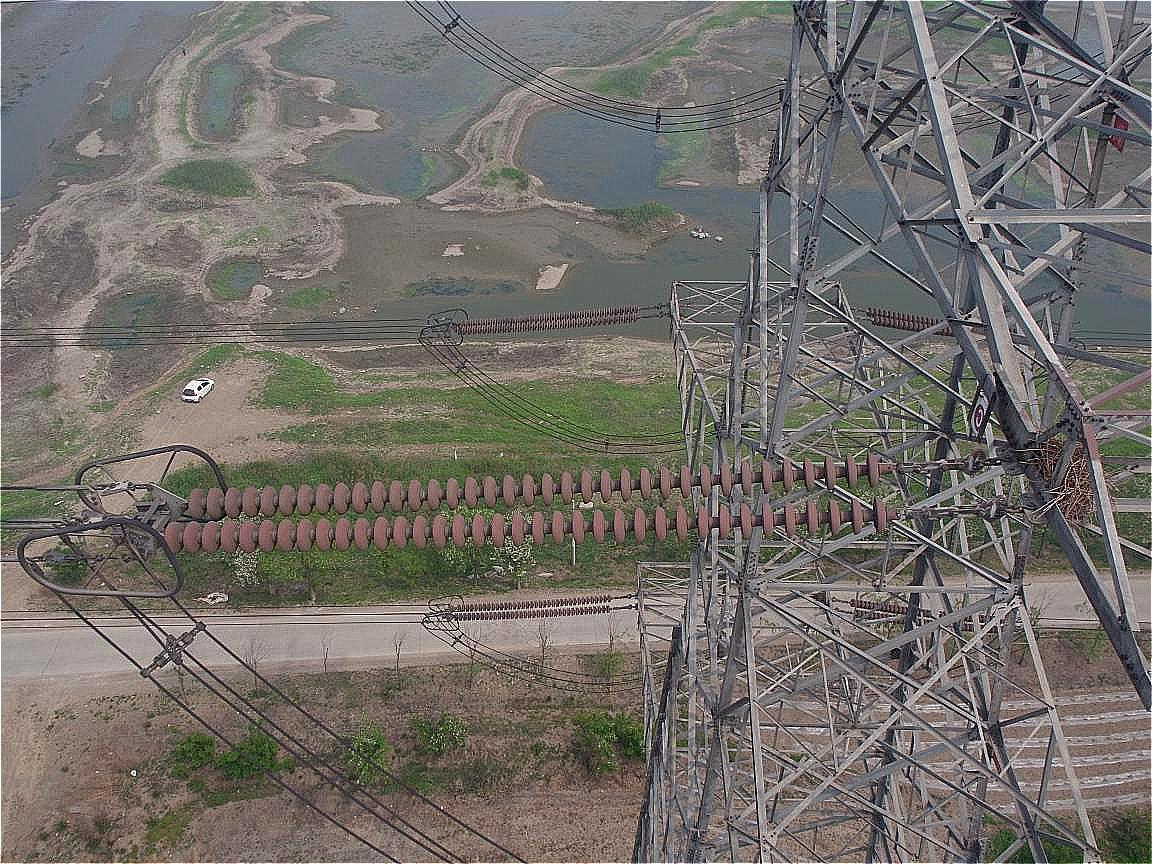insultor1: (147, 437, 945, 566)
